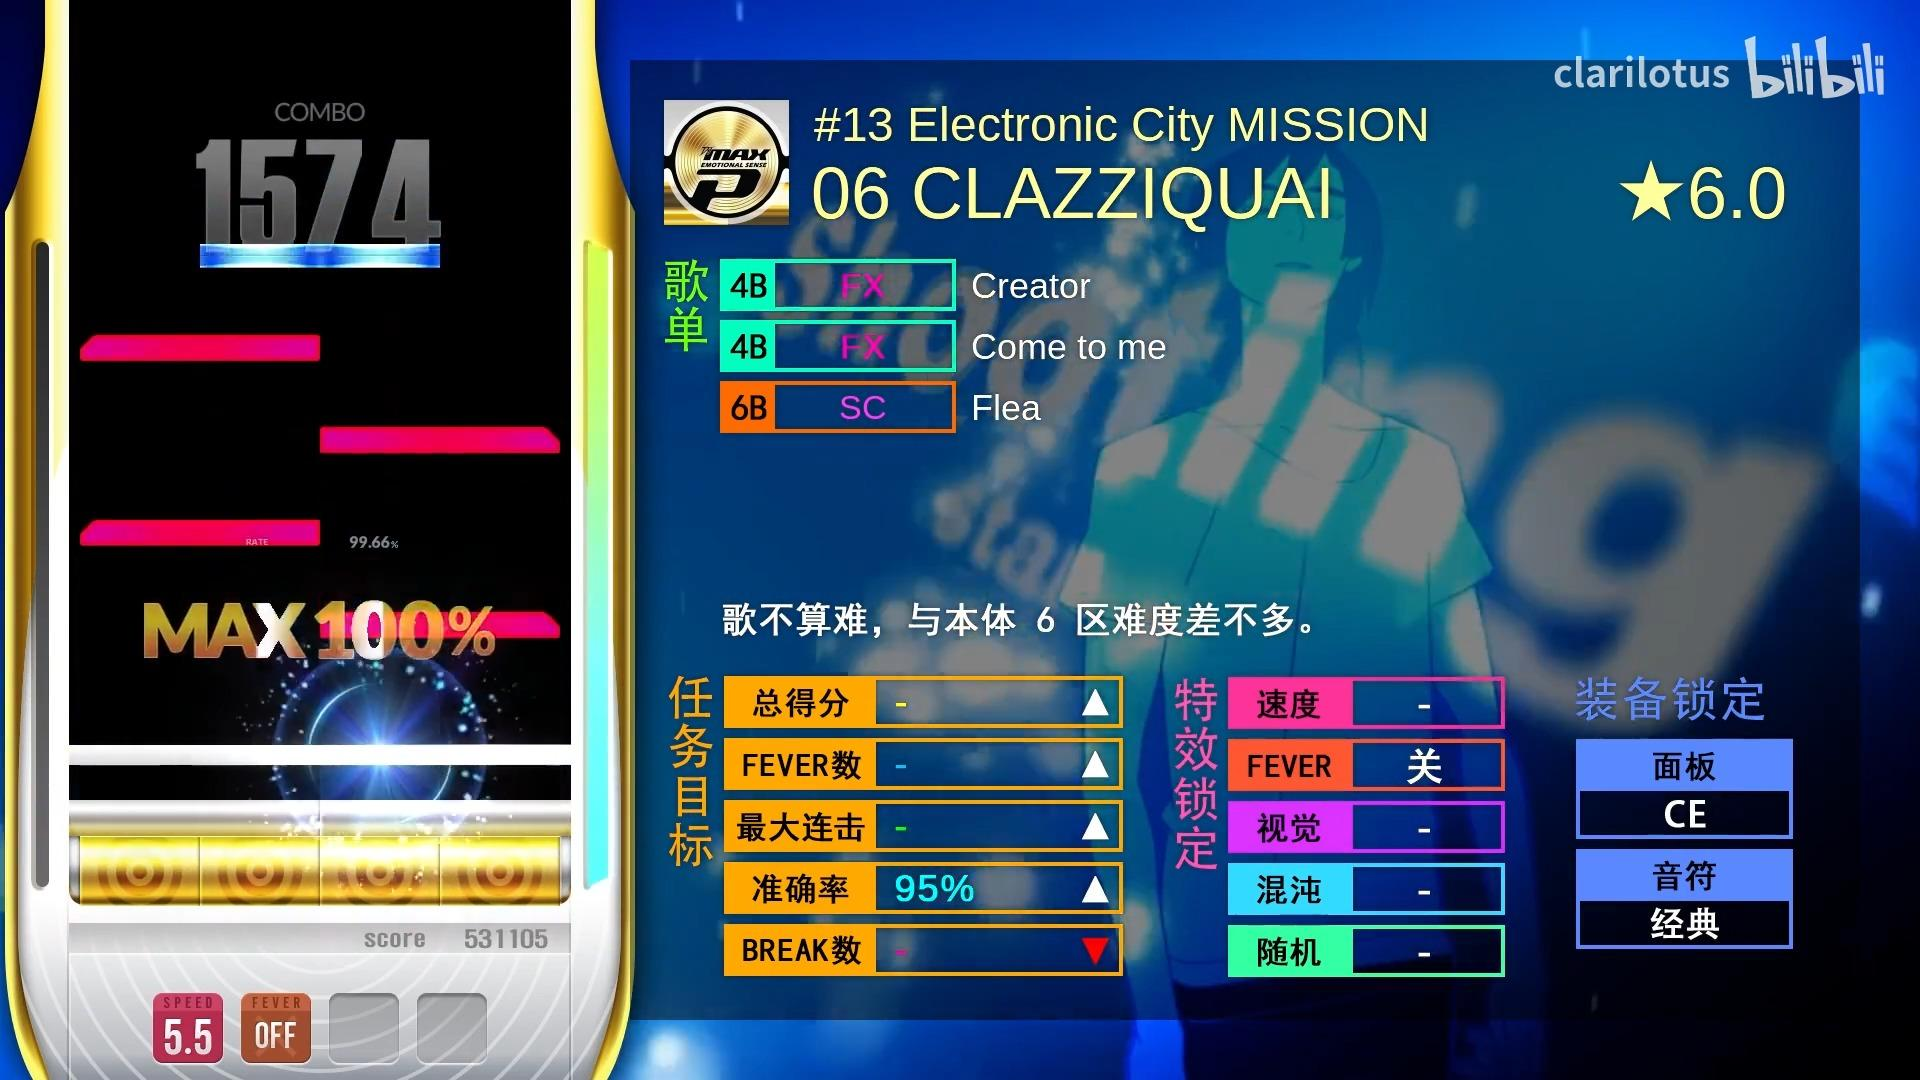note: (199, 244, 322, 269), (322, 243, 439, 268)
xnote: (80, 334, 320, 363), (320, 426, 559, 454), (80, 520, 320, 546), (320, 612, 560, 637)
